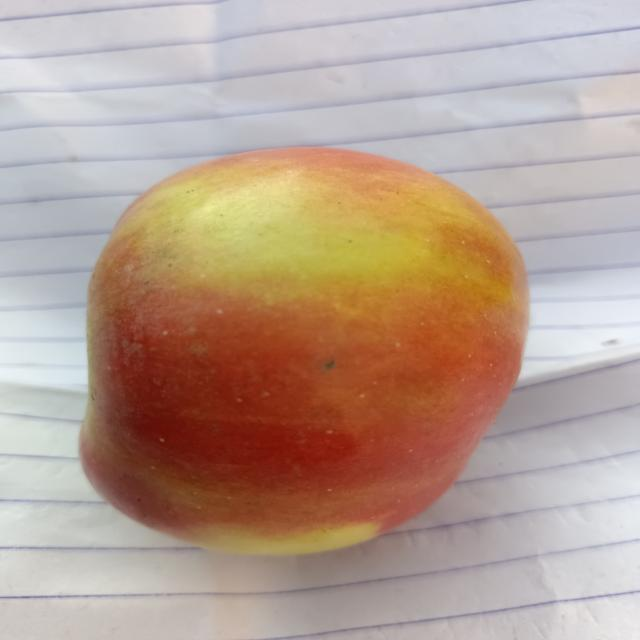Fresh Apple: (69, 142, 536, 564)
